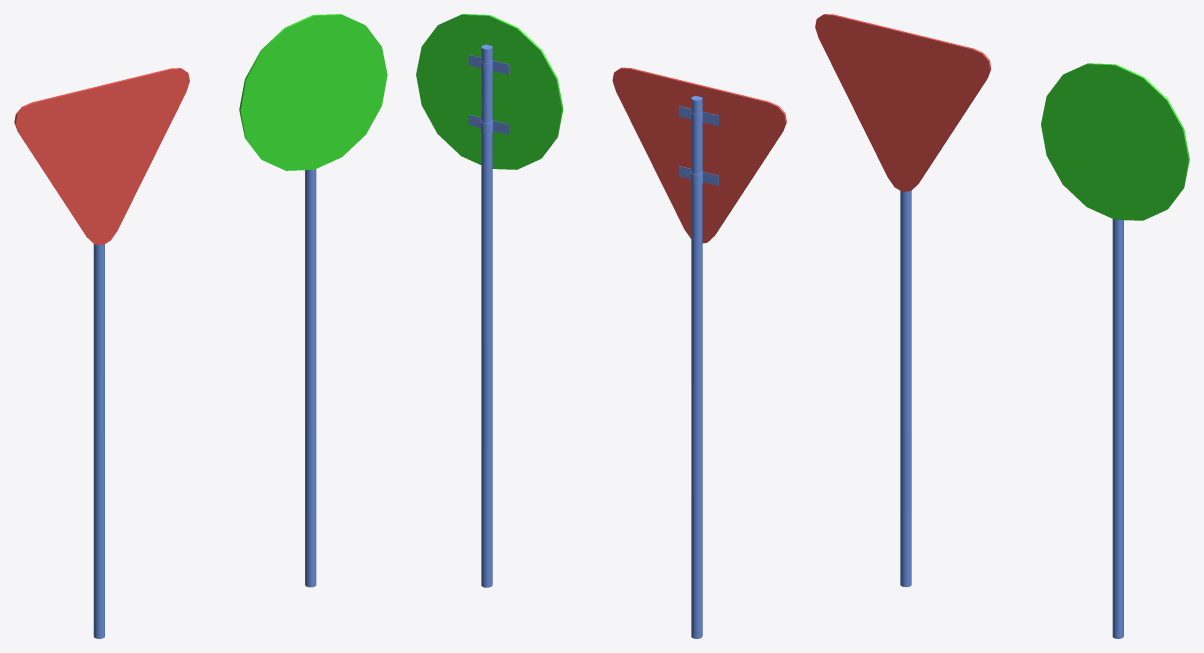
File: Prop_StreetSigns_FabianZ_M.fbx
3 views of the same model, side by side, from view 1: azimuth 30°, elevation 25°; view 2: azimuth 150°, elevation 25°; view 3: azimuth 330°, elevation 25° (orthographic).
Visible parts, largest first — view 1: StreetSignRound, StreetSignTriangle; view 2: StreetSignRound, StreetSignTriangle; view 3: StreetSignRound, StreetSignTriangle.
Part boxes in pixels (x1,y1,x2,y2): StreetSignRound: [239, 14, 387, 587]; StreetSignTriangle: [14, 68, 189, 638]; StreetSignRound: [416, 14, 563, 587]; StreetSignTriangle: [612, 67, 786, 638]; StreetSignRound: [1041, 63, 1189, 638]; StreetSignTriangle: [815, 14, 991, 587].
Size of what is drawn, in the model's own units: 176 by 258 by 5.56.
